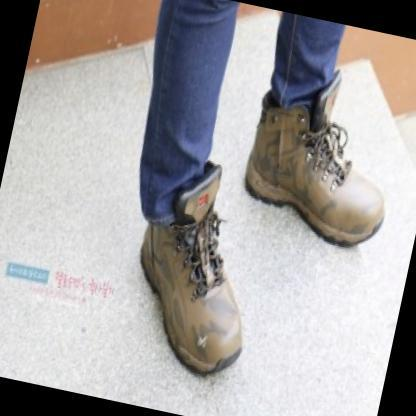safety-shoe: (97, 166, 279, 397), (234, 74, 414, 263)
